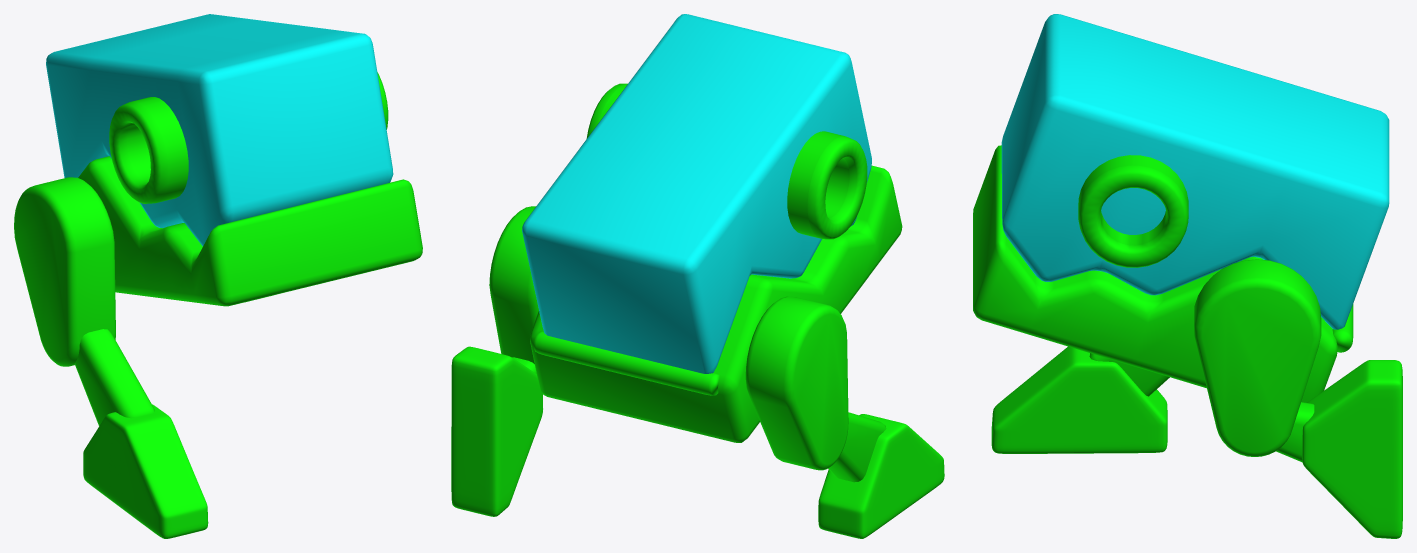
3 renders of one model, left to right at view 1: azimuth 30°, elevation 25°; view 2: azimuth 150°, elevation 25°; view 3: azimuth 270°, elevation 25°, orthographic. The views are drawn at different scales.
Parts seen in each view (by area): view 1: Top_Jaw, Lower_Jaw, Thighs_Left, Feet_Left, Eyes, Shin_Left; view 2: Top_Jaw, Lower_Jaw, Thighs_Left, Feet_Right, Feet_Left, Eyes, Thighs_Right, Hinge, Shin_Left; view 3: Top_Jaw, Lower_Jaw, Thighs_Right, Feet_Left, Feet_Right, Eyes, Shin_Right, Shin_Left, Hinge.
Boxes of the visible parts, box(x1,y1,x2,y2) form: Top_Jaw: box(46, 14, 393, 246); Lower_Jaw: box(78, 156, 422, 306); Thighs_Left: box(14, 177, 115, 366); Feet_Left: box(83, 404, 208, 538); Eyes: box(109, 72, 388, 203); Shin_Left: box(75, 329, 154, 425); Top_Jaw: box(522, 14, 871, 373); Lower_Jaw: box(530, 165, 902, 442); Thighs_Left: box(745, 296, 848, 470); Feet_Right: box(451, 346, 542, 516); Feet_Left: box(818, 414, 944, 538); Eyes: box(586, 83, 867, 239); Thighs_Right: box(489, 206, 538, 363); Hinge: box(534, 331, 719, 395); Shin_Left: box(828, 412, 886, 482); Top_Jaw: box(1001, 14, 1389, 329); Lower_Jaw: box(973, 145, 1337, 402); Thighs_Right: box(1194, 259, 1321, 456); Feet_Left: box(991, 346, 1167, 453); Feet_Right: box(1302, 360, 1402, 538); Eyes: box(1078, 155, 1188, 267); Shin_Right: box(1276, 402, 1314, 462); Shin_Left: box(1089, 353, 1169, 396); Hinge: box(1332, 304, 1353, 352).
Bounding box in the file's own units: 2.03 × 2.77 × 2.37.
